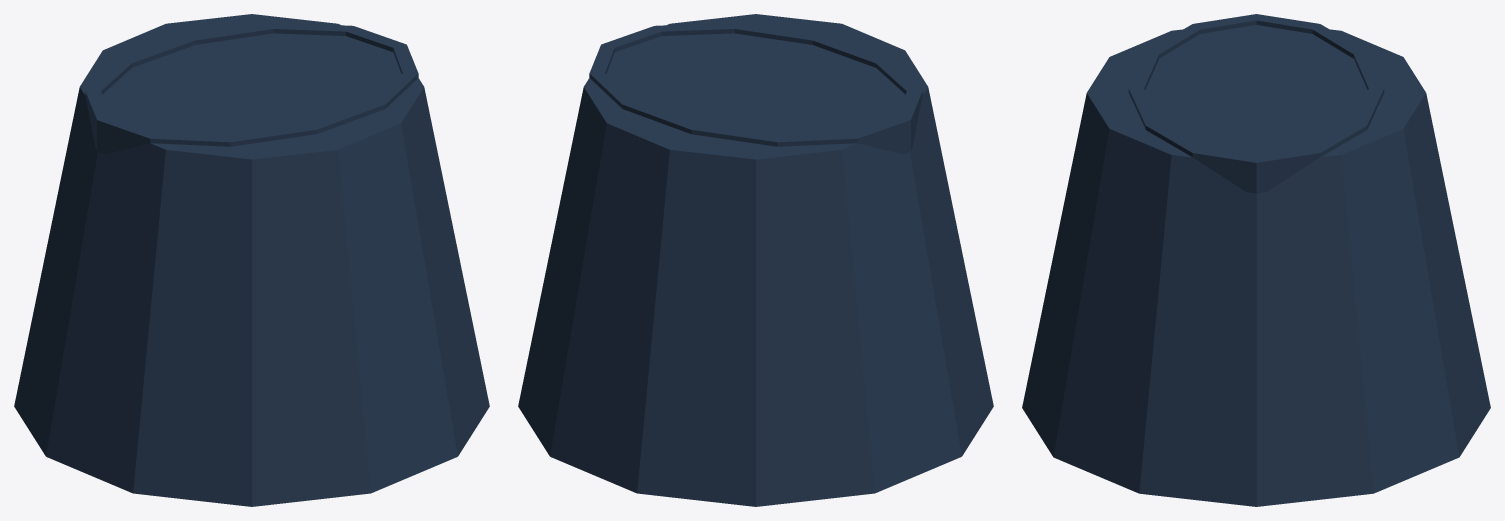
The model's file is Modular_Female_Skirt.fbx.
3 views of the same model, side by side, from view 1: azimuth 30°, elevation 25°; view 2: azimuth 150°, elevation 25°; view 3: azimuth 270°, elevation 25° (orthographic).
Visible parts, largest first — view 1: Skirt.001, Belt.015; view 2: Skirt.001, Belt.015; view 3: Skirt.001, Belt.015.
Boxes of the visible parts, bbox=[...] form: Skirt.001: bbox=[14, 14, 489, 506]; Belt.015: bbox=[85, 22, 418, 154]; Skirt.001: bbox=[518, 14, 993, 506]; Belt.015: bbox=[589, 22, 922, 154]; Skirt.001: bbox=[1022, 25, 1490, 506]; Belt.015: bbox=[1128, 14, 1384, 193].
Size of the model in its own units: 0.5568 by 0.4186 by 0.5568.
